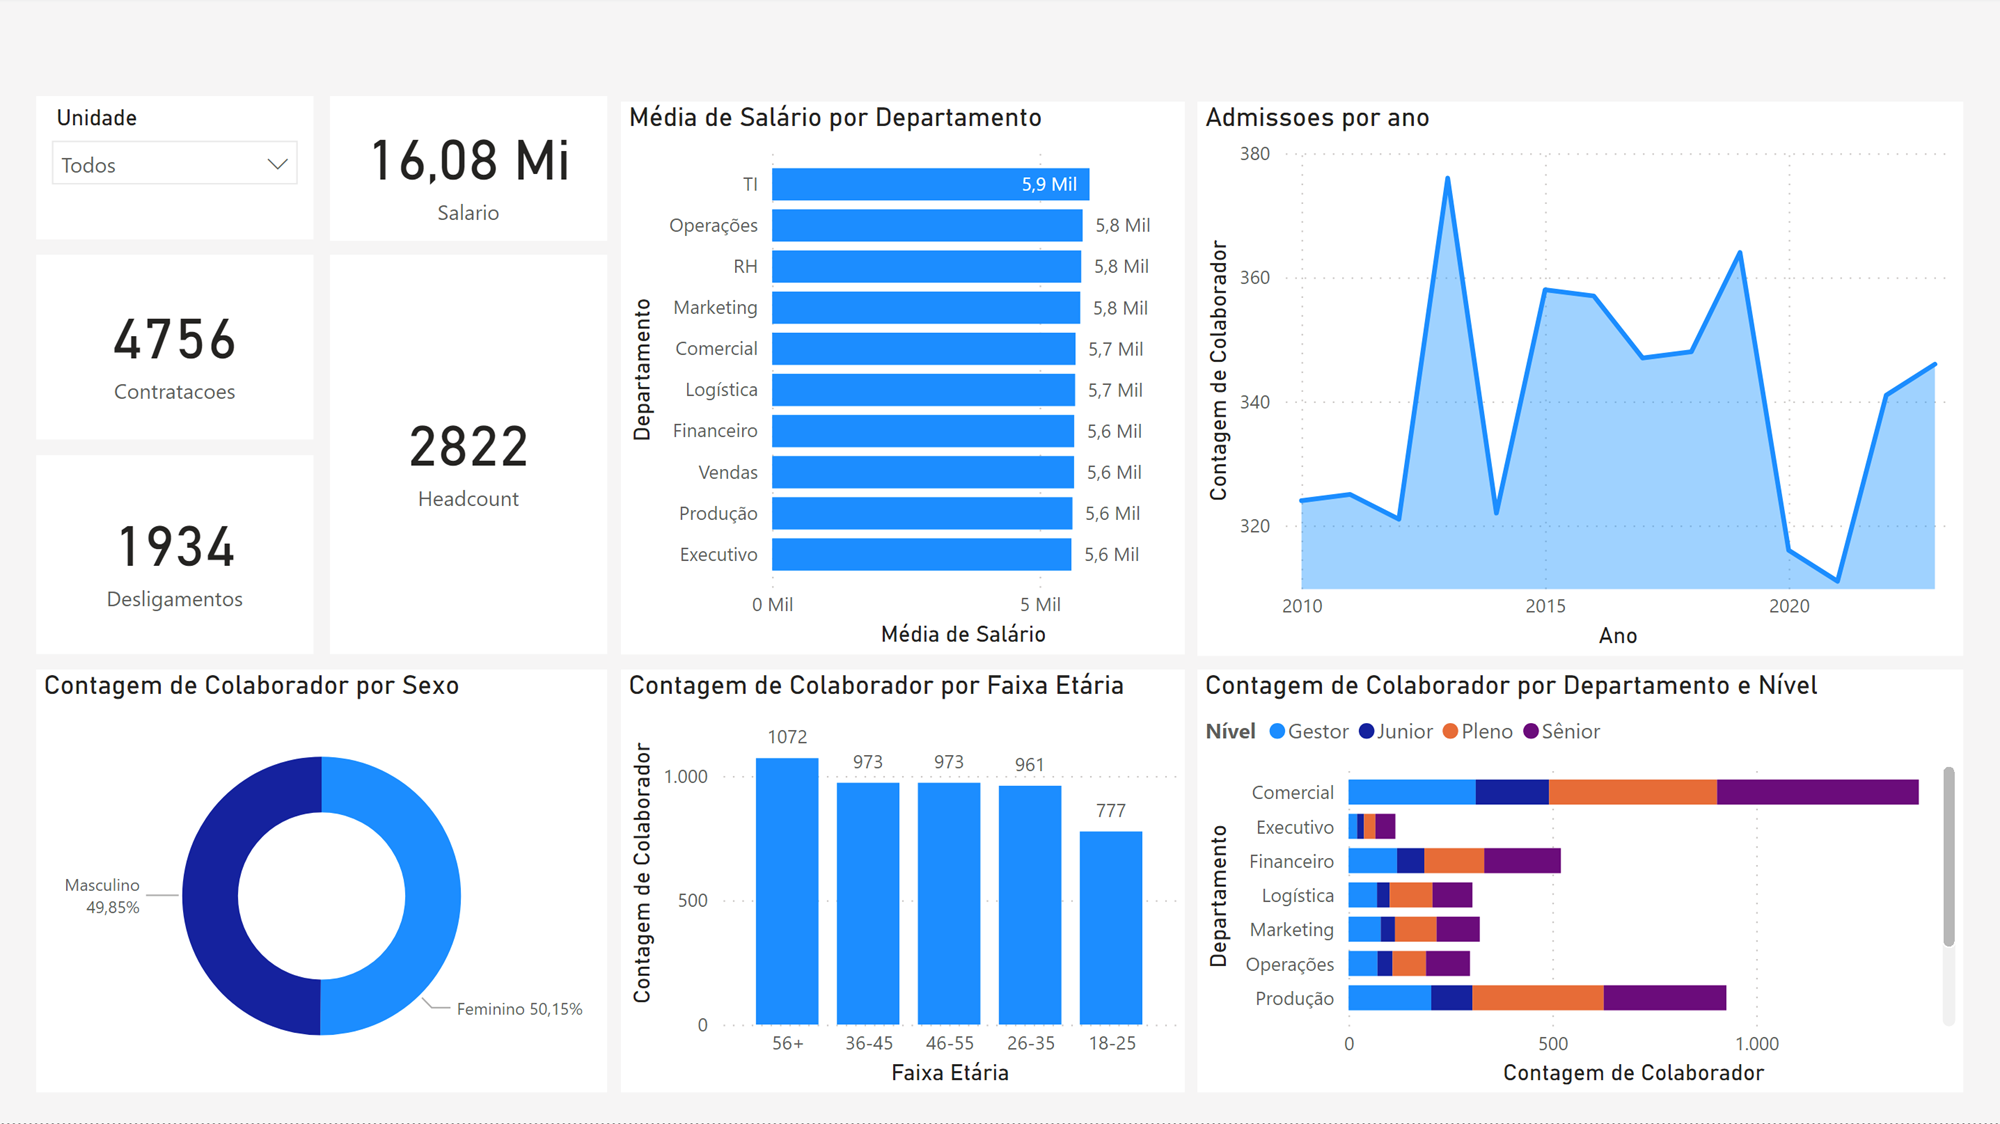

The dashboard page shown, as its layout file describes it:
{"tool":"powerbi","page":{"name":"Página 2","canvas":[1280,720],"ordinal":0},"visuals":[{"type":"card","fields":{"Values":["CountNonNull(Dados.Colaborador)"]},"box":[121.5,191.8,102.5,84.4],"z":0},{"type":"card","fields":{"Values":["Dados.Demissões"]},"box":[253.3,191.8,112.2,84.4],"z":1000},{"type":"card","fields":{"Values":["Dados.Turnover"]},"box":[253,305.1,102.5,84.4],"z":2000},{"type":"card","fields":{"Values":["Sum(Dados.Salário)"]},"box":[112.2,305.1,112.2,84.4],"z":3000},{"type":"columnChart","fields":{"Y":["CountNonNull(Dados.Colaborador)"],"Category":["Dados.Faixa Etária"]},"box":[969.6,191.8,277.4,197.8],"z":4000},{"type":"donutChart","fields":{"Category":["Dados.Gênero"],"Y":["CountNonNull(Dados.Colaborador)"]},"box":[90.6,418.5,290.9,279.9],"z":5000},{"type":"slicer","fields":{"Values":["Dados.Departamento"]},"box":[659.7,43.4,168.8,63.9],"z":6000},{"type":"slicer","fields":{"Values":["Dados.Nível"]},"box":[849,44.6,168.8,63.9],"z":7000},{"type":"slicer","fields":{"Values":["Dados.Departamento"]},"box":[1026.3,37.4,229.1,78.4],"z":8000},{"type":"barChart","fields":{"Y":["Sum(Dados.Salário)"],"Category":["Dados.Departamento"]},"box":[400.4,437.8,343.7,260.5],"z":9000},{"type":"barChart","fields":{"Category":["Dados.Departamento"],"Y":["CountNonNull(Dados.Colaborador)"],"Series":["Dados.Nível"]},"box":[763,454.2,492.6,244.3],"z":10000},{"type":"lineChart","fields":{"Y":["CountNonNull(Dados.Colaborador)"],"Category":["Dados.Data Admissão.Variation.Hierarquia de datas.Ano","Dados.Data Admissão.Variation.Hierarquia de datas.Trimestre","Dados.Data Admissão.Variation.Hierarquia de datas.Mês","Dados.Data Admissão.Variation.Hierarquia de datas.Dia"]},"box":[410.1,191.8,523.4,197.8],"z":11000},{"type":"card","fields":{"Values":["CountNonNull(Dados.Colaborador)"]},"box":[184.5,516.2,102.5,84.4],"z":12000}]}

Visuals, with their boxes in screenshot pixels (x1, y1, x2, y2), scaled from the page's 1280x720 canvas onto the 2000x1124 screenshot:
card - CountNonNull(Dados.Colaborador): locate(190, 299, 350, 431)
card - Dados.Demissões: locate(396, 299, 571, 431)
card - Dados.Turnover: locate(395, 476, 555, 608)
card - Sum(Dados.Salário): locate(175, 476, 351, 608)
columnChart - CountNonNull(Dados.Colaborador) x Dados.Faixa Etária: locate(1515, 299, 1948, 608)
donutChart - Dados.Gênero x CountNonNull(Dados.Colaborador): locate(142, 653, 596, 1090)
slicer - Dados.Departamento: locate(1031, 68, 1295, 168)
slicer - Dados.Nível: locate(1327, 70, 1590, 169)
slicer - Dados.Departamento: locate(1604, 58, 1962, 181)
barChart - Sum(Dados.Salário) x Dados.Departamento: locate(626, 683, 1163, 1090)
barChart - Dados.Departamento x CountNonNull(Dados.Colaborador): locate(1192, 709, 1962, 1090)
lineChart - CountNonNull(Dados.Colaborador) x Dados.Data Admissão.Variation.Hierarquia de datas.Ano: locate(641, 299, 1459, 608)
card - CountNonNull(Dados.Colaborador): locate(288, 806, 448, 938)
